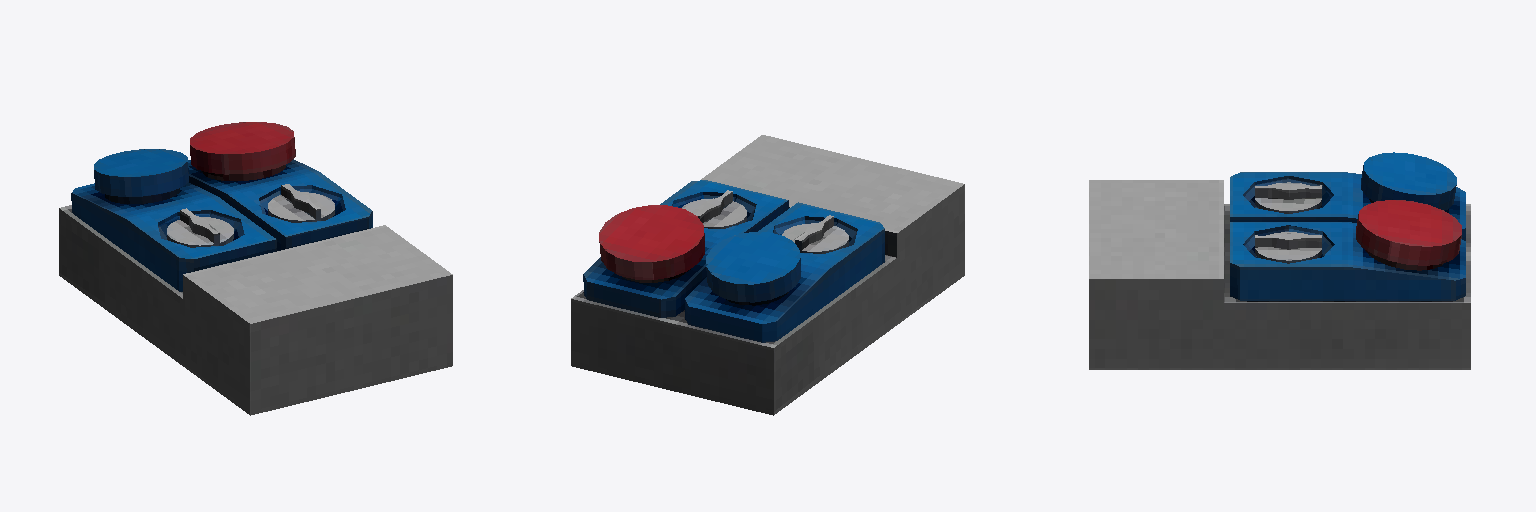
3 renders of one model, left to right at view 1: azimuth 30°, elevation 25°; view 2: azimuth 150°, elevation 25°; view 3: azimuth 270°, elevation 25°, orthographic.
Parts seen in each view (by area): view 1: acdcB004; view 2: acdcB004; view 3: acdcB004.
Boxes of the visible parts, box(x1,y1,x2,y2) form: acdcB004: box(59, 122, 452, 415); acdcB004: box(571, 135, 964, 415); acdcB004: box(1089, 152, 1470, 369).
Size of the model in its own units: 22 by 13.46 by 36.
1 materials, 1 textured.